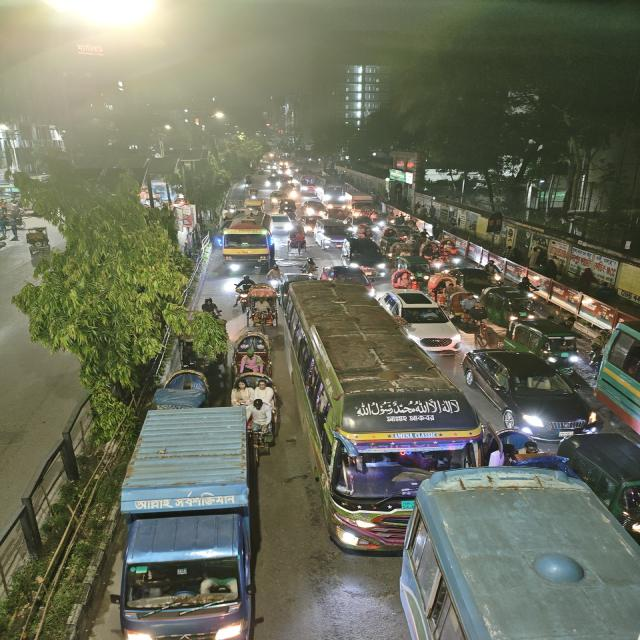bus: (285, 285, 483, 558), (402, 470, 638, 640), (593, 308, 640, 444), (316, 177, 349, 206), (296, 174, 319, 195)
car: (465, 348, 599, 438), (382, 289, 460, 348), (344, 238, 389, 276), (444, 266, 504, 294), (312, 217, 351, 251), (266, 211, 294, 235), (300, 198, 329, 218)
cng: (568, 431, 640, 535), (505, 318, 582, 362), (479, 284, 537, 321), (274, 198, 294, 215)
human_hauler: (244, 198, 264, 210)
motorcycle: (301, 256, 320, 279)
rickshaw: (230, 371, 280, 450), (231, 331, 275, 375), (450, 292, 488, 341), (233, 274, 272, 310), (242, 297, 278, 330), (436, 238, 466, 267), (284, 227, 310, 256)
truck: (113, 409, 271, 640), (219, 214, 277, 273), (347, 194, 378, 216)
